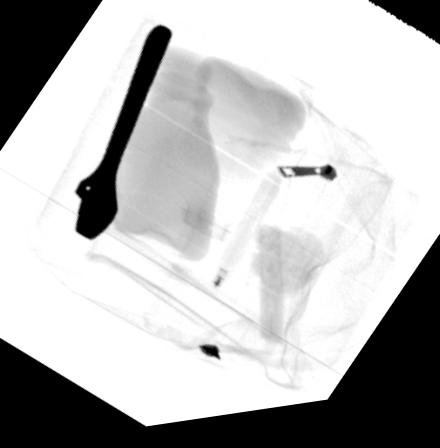Wrench: (71, 28, 173, 246)
